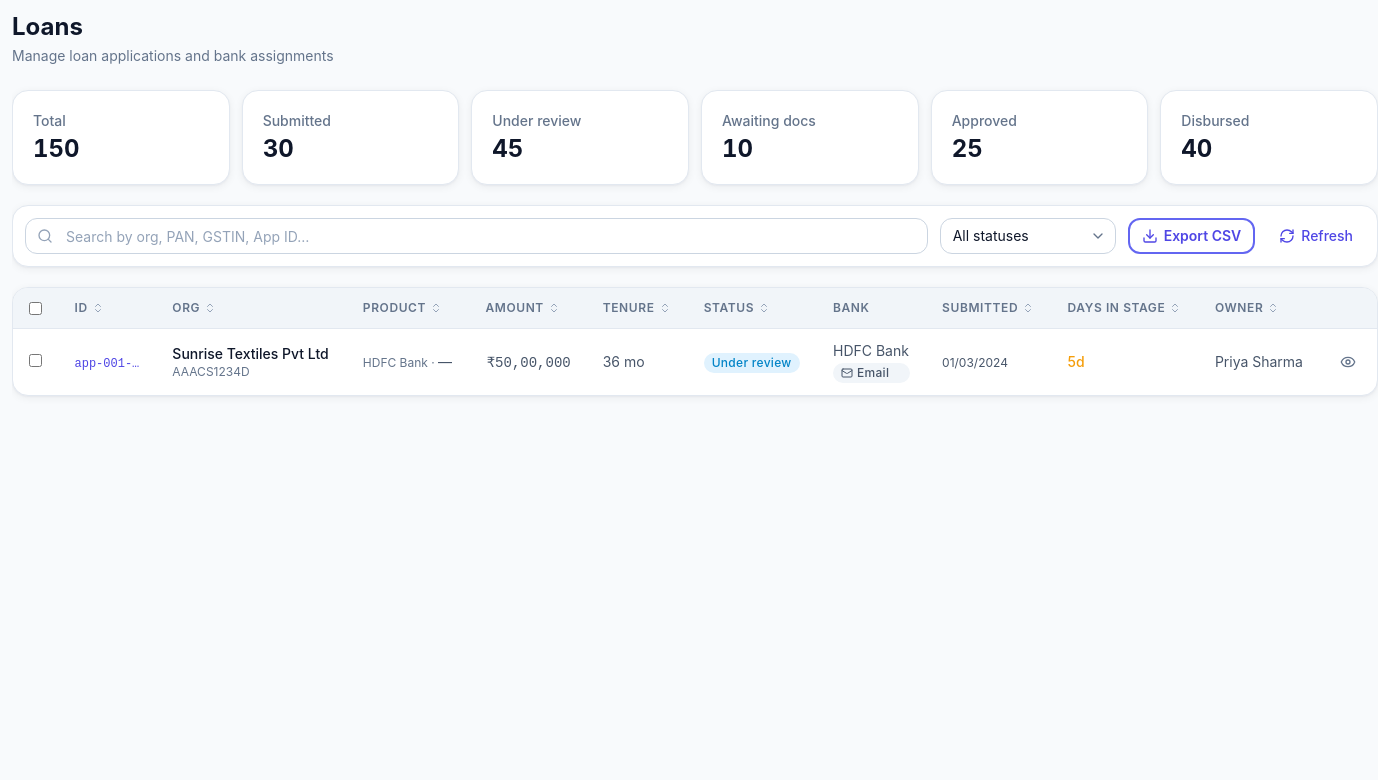
Test: LoansListPage — bulk assign modal › clicking row checkbox increments selection
The image size is (1378, 780).
Click the checkbox named "select row": (36, 361) [29,354,42,367]
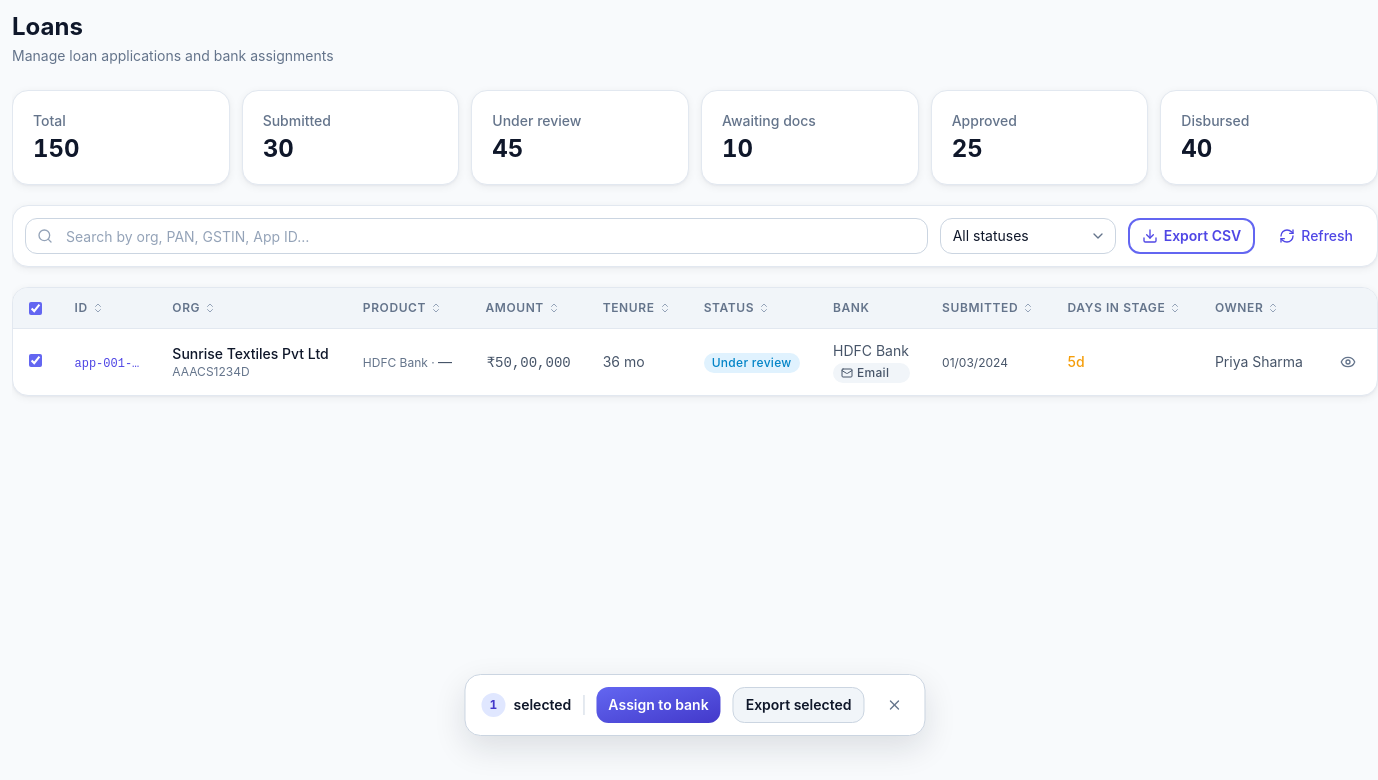
Check: the checkbox named "select row" is checked, box [29,354,42,367]
